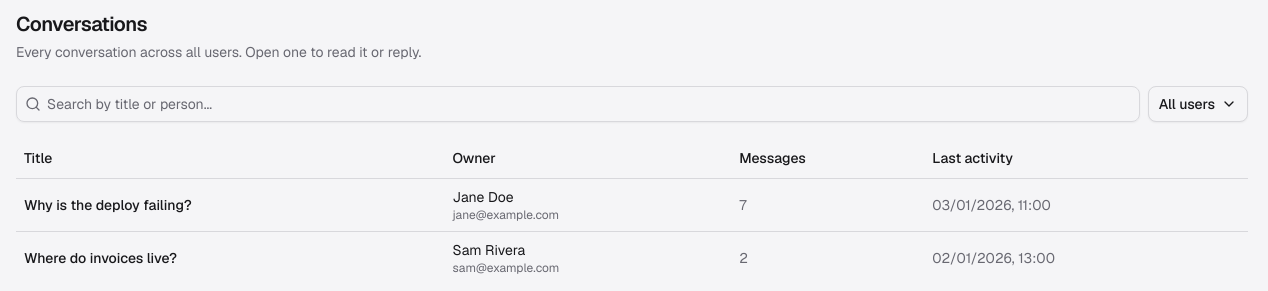
Test case: AdminConversationsPanel › filtering by owner shows only that owner’s conversations
Expected: the link "Why is the deploy failing?" is shown, top-left (24, 196), bottom-right (192, 214)
Click the button "All users": {"x": 1198, "y": 104} top-left (1148, 86), bottom-right (1248, 122)
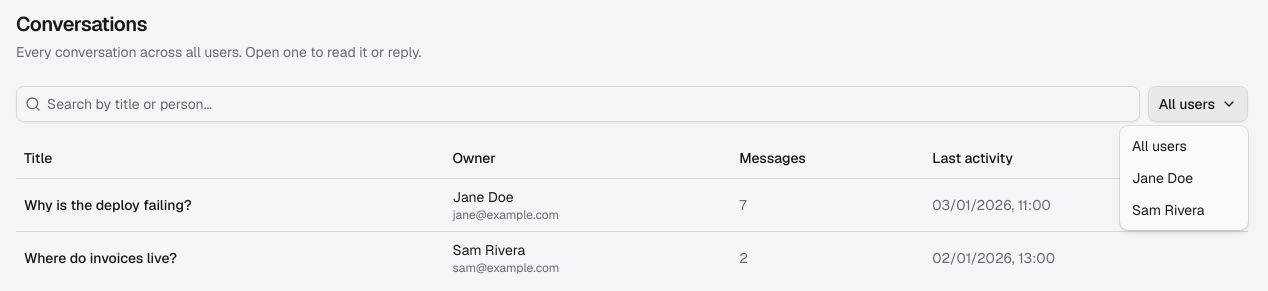
Click the menu item "Jane Doe": {"x": 1162, "y": 178} top-left (1132, 169), bottom-right (1193, 187)
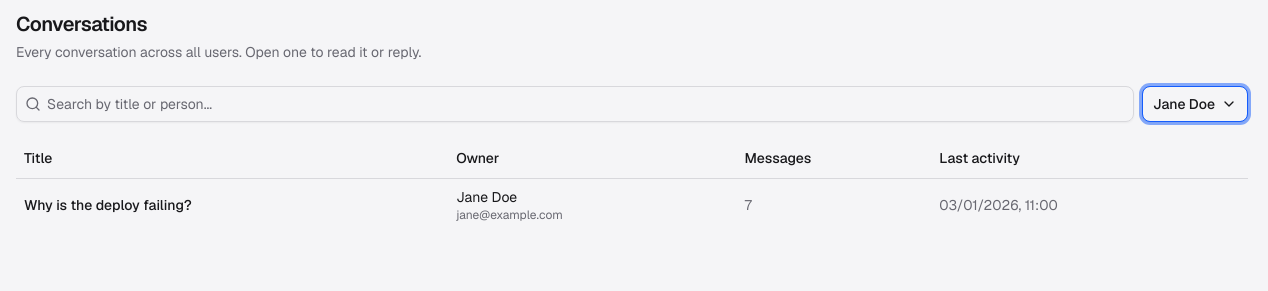
Expected: the link "Why is the deploy failing?" is shown, top-left (24, 196), bottom-right (192, 214)
Expected: the link "Where do invoices live?" is gone
